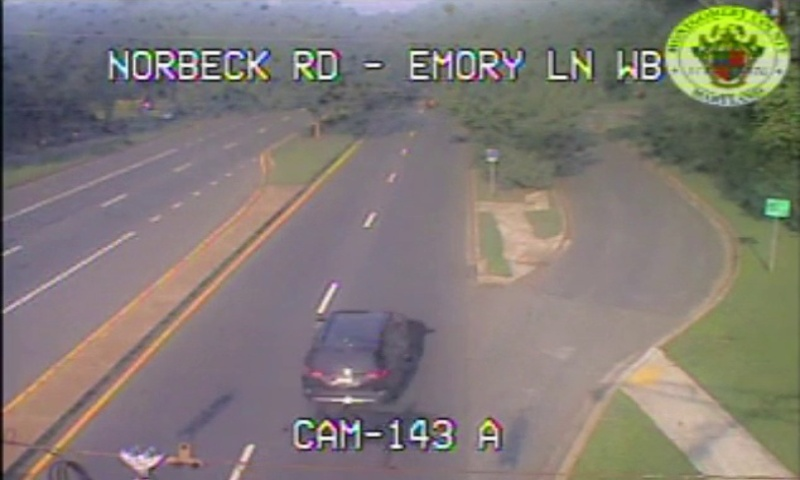car: (301, 309, 400, 404)
